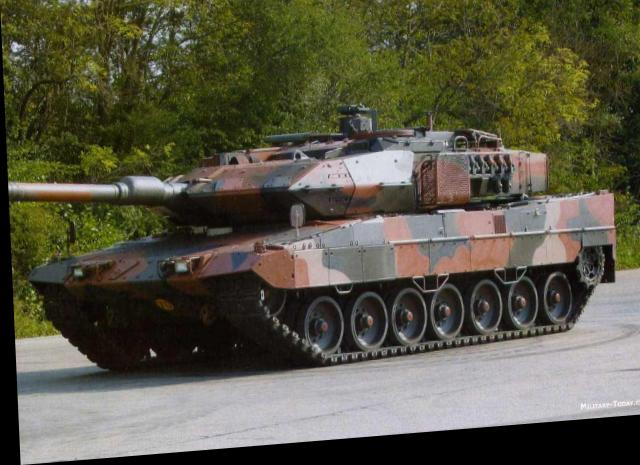tank: (24, 113, 625, 393)
